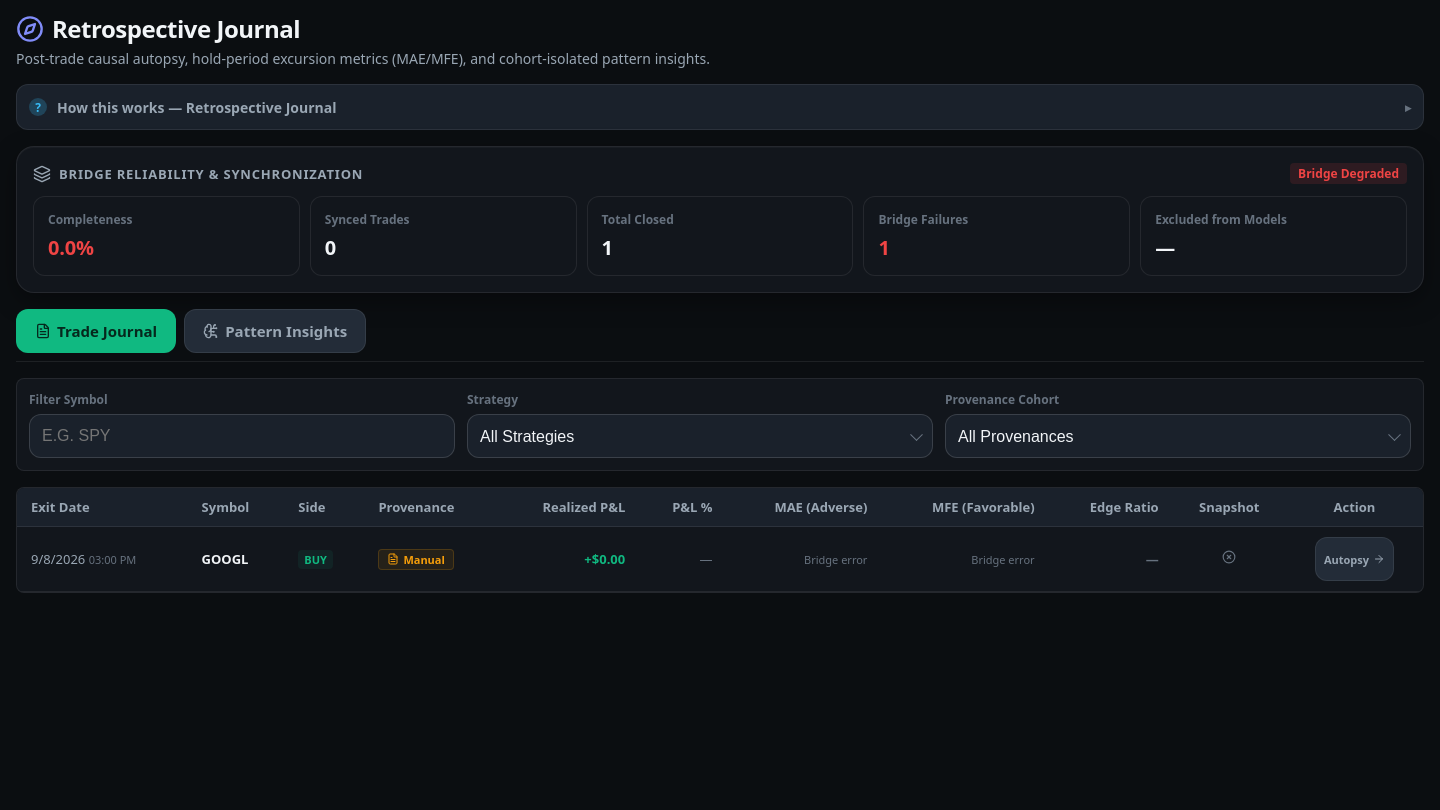
Milestone 4 Adversarial UI State Testing (WP-H) › RetrospectiveJournal Screen Resilience › renders journal table with worst-case trade and switches to insights cleanly
Expected: the text "Bridge Degraded" is shown, [1290,163,1407,184]
Expected: the text "0.0%" is shown, [48,234,94,261]
Switch to Pattern Insights tab
Click the button "Pattern Insights": (275, 331) [184,309,366,353]
(page scrolled)
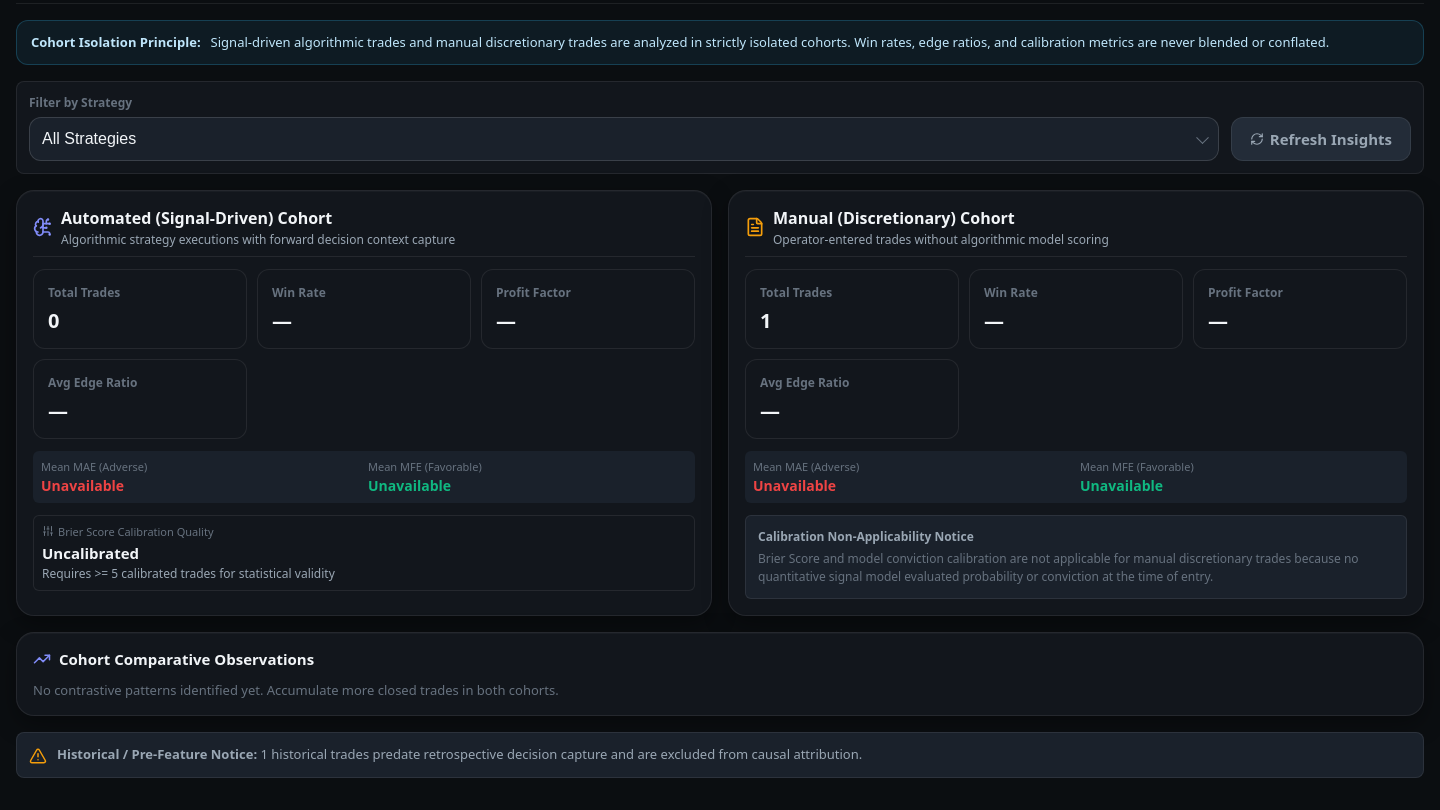
Result: the text "Cohort Isolation Principle:" is shown at [31,33,201,52]
Result: the heading "Automated (Signal-Driven) Cohort" is shown at [61,207,332,229]
Result: the heading "Manual (Discretionary) Cohort" is shown at [773,207,1015,229]
